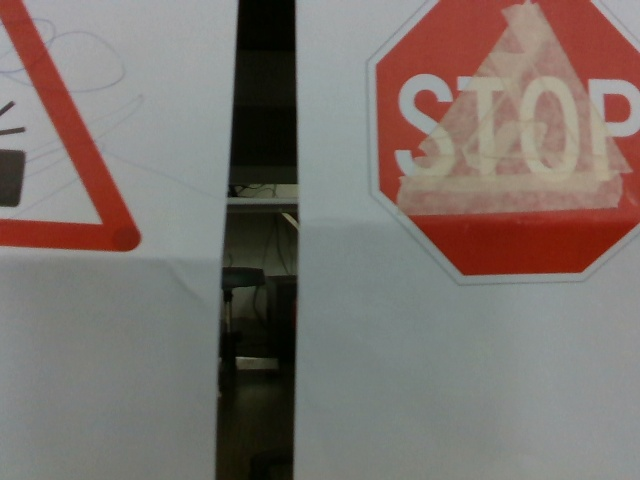stop: (377, 3, 640, 276)
